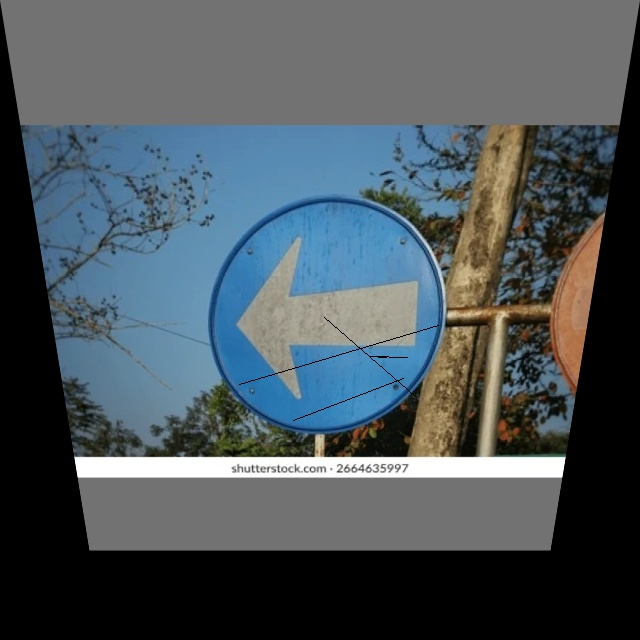Compulsory_Turn_Left: (206, 202, 454, 429)
